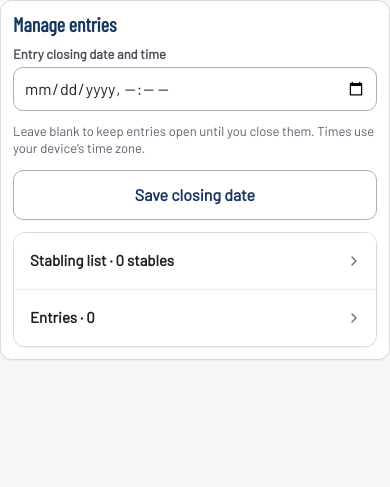
Scenario: shows a failed date save without claiming success
Click the button "Save closing date": [195, 195] box top-left (13, 170), bottom-right (377, 220)
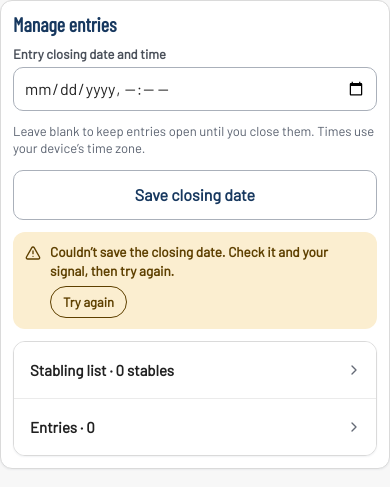
Result: the message shows "Couldn’t save" at top-left (50, 243), bottom-right (328, 279)
